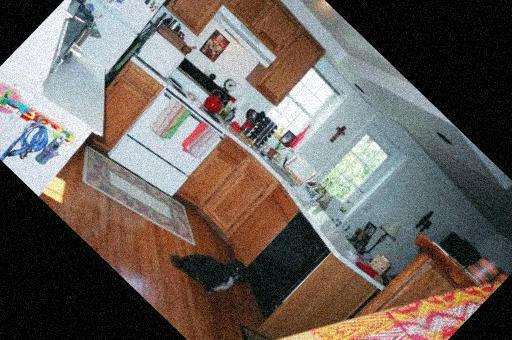Electrodomestico: (110, 86, 226, 202), (226, 216, 333, 325)
Otro Obstaculo: (163, 225, 251, 312)
